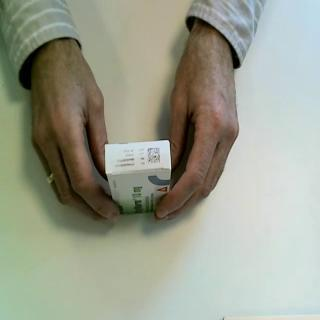oxynorm10mg: (104, 139, 173, 217)
